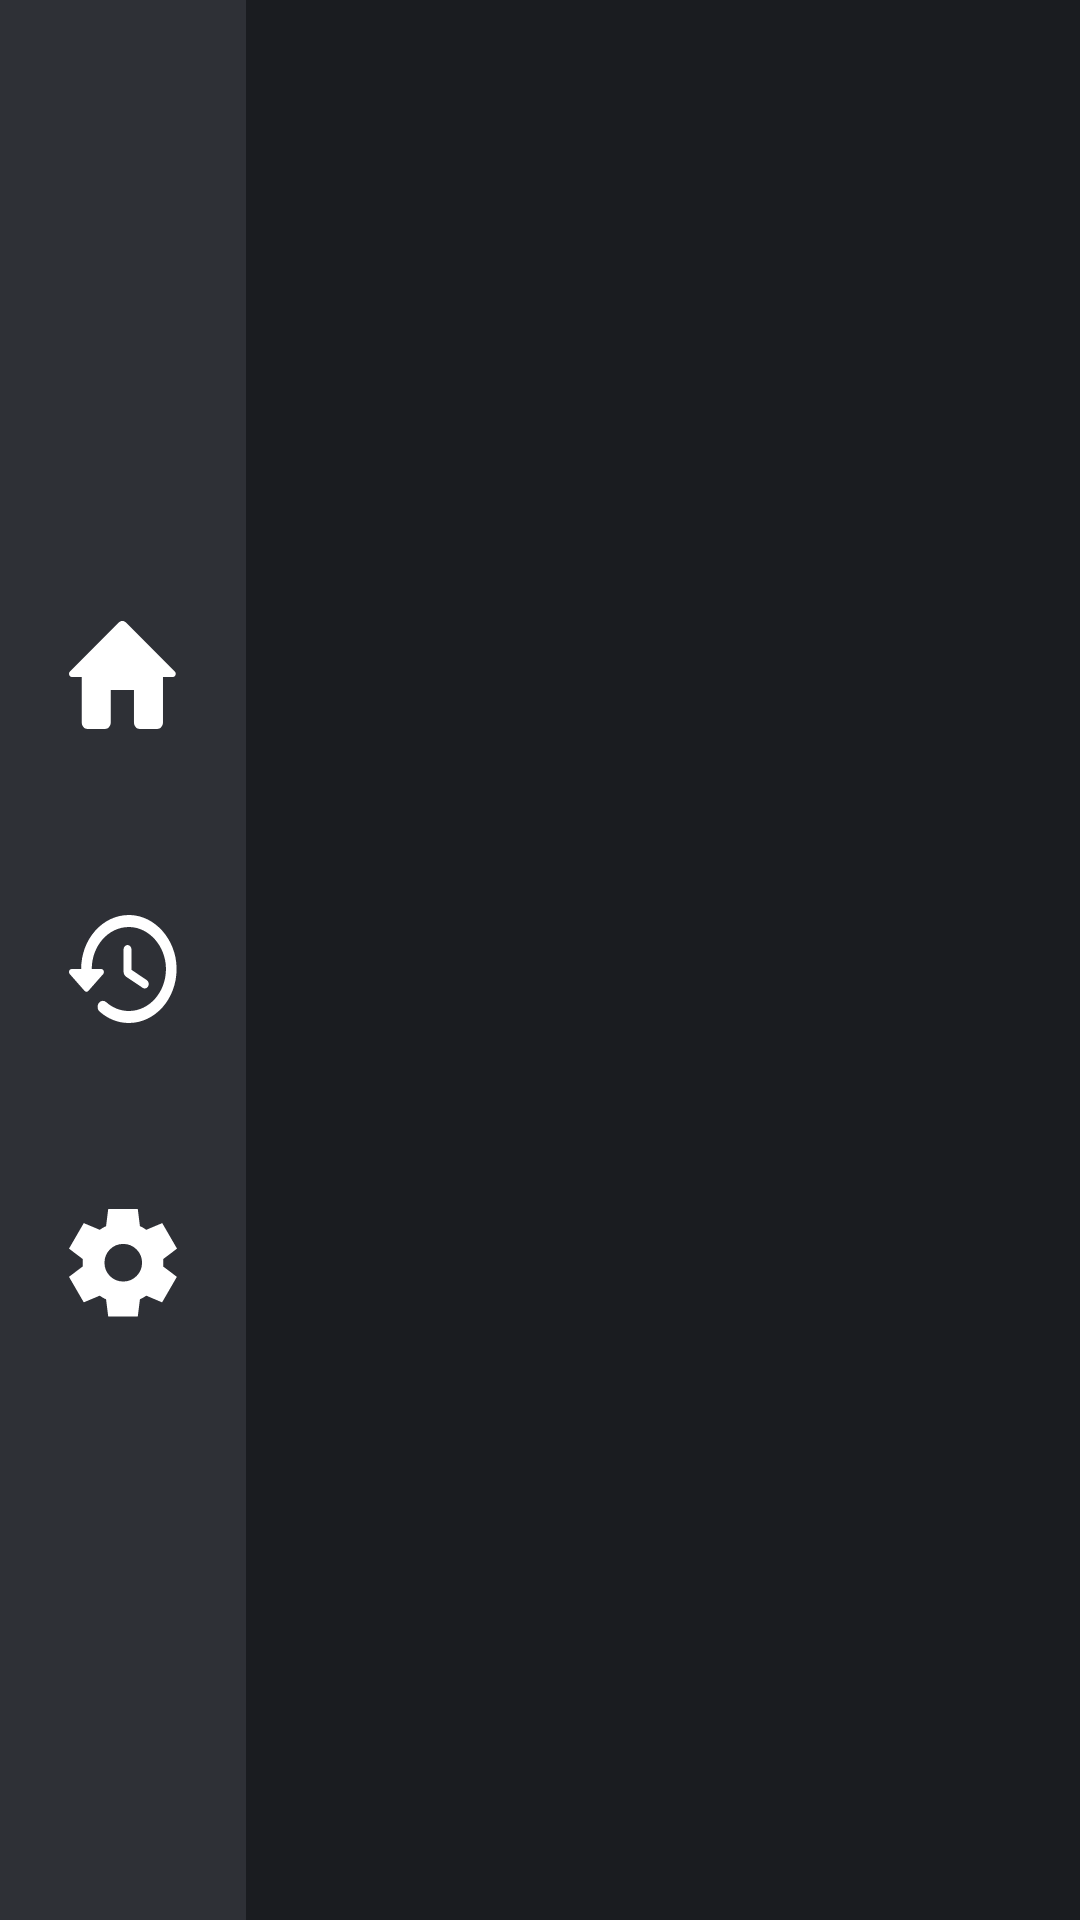

Locate icon controls on the screen. Image size 1080 x 1920, boxes as box(x1, y1, x2, y2).
Activity: box(69, 915, 177, 1023)
Settings: box(69, 1209, 177, 1317)
